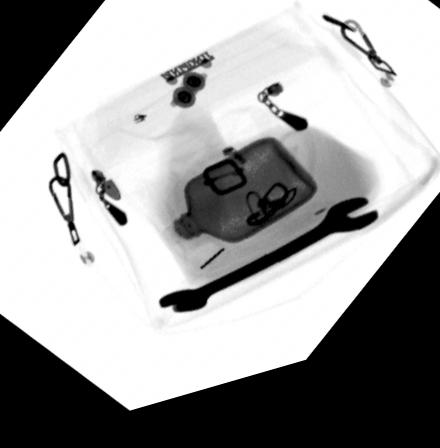Wrench: (154, 215, 381, 324)
